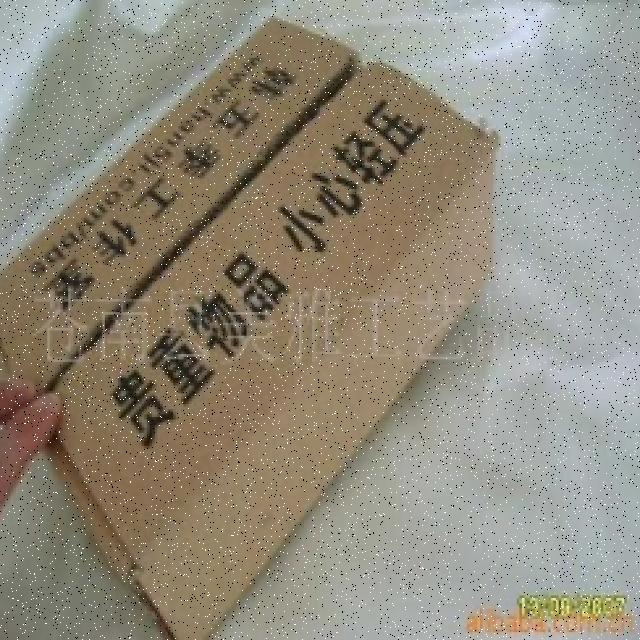box: (0, 8, 538, 640)
